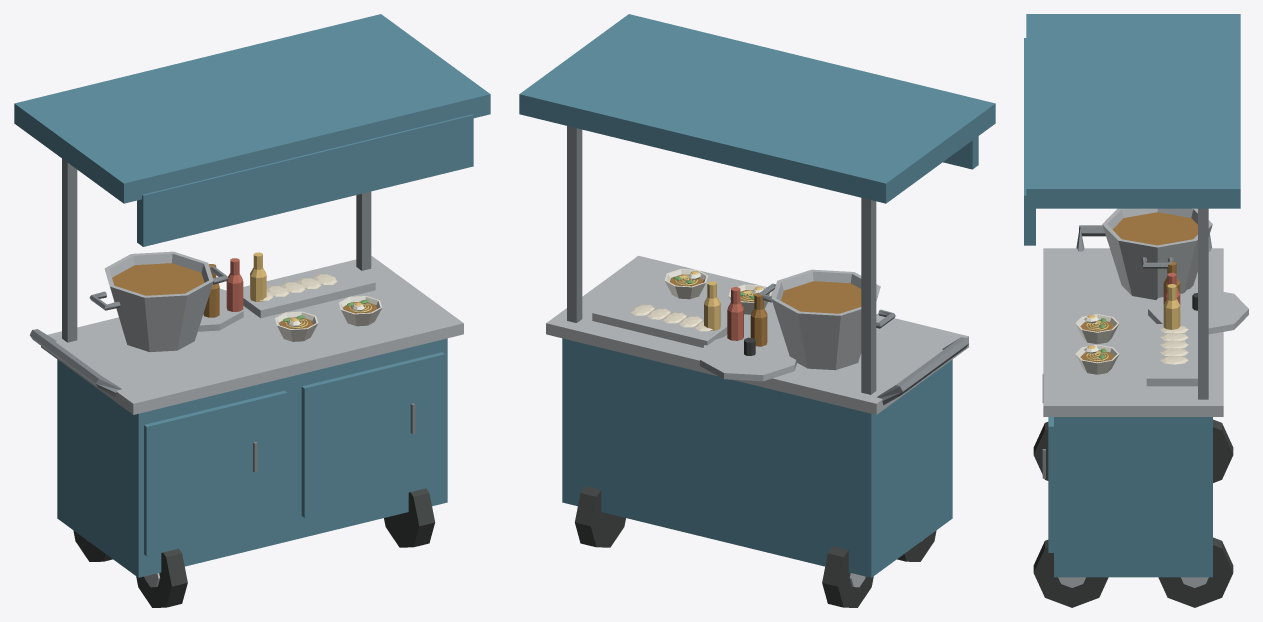
File: MiQuangCounter.glb
3 renders of one model, left to right at view 1: azimuth 30°, elevation 25°; view 2: azimuth 150°, elevation 25°; view 3: azimuth 270°, elevation 25°, orthographic. The views are drawn at different scales.
Parts seen in each view (by area): view 1: ST_MiQuangCounter_ST_blue.001, ST_MiQuangCounter_ST_steel.001, ST_MiQuangCounter_PBK_Indochine_metal.001, ST_MiQuangCounter_ST_black.001, ST_MiQuangCounter_ST_broth.001, ST_MiQuangCounter_ST_white.001, ST_MiQuangCounter_ST_cream.001, ST_Condiment.001, ST_MiQuangCounter_ST_yellow.001; view 2: ST_MiQuangCounter_ST_blue.001, ST_MiQuangCounter_ST_steel.001, ST_MiQuangCounter_PBK_Indochine_metal.001, ST_MiQuangCounter_ST_black.001, ST_MiQuangCounter_ST_broth.001, ST_MiQuangCounter_ST_white.001, ST_MiQuangCounter_ST_cream.001, ST_Condiment.001, ST_MiQuangCounter_ST_yellow.001; view 3: ST_MiQuangCounter_ST_blue.001, ST_MiQuangCounter_ST_steel.001, ST_MiQuangCounter_ST_black.001, ST_MiQuangCounter_PBK_Indochine_metal.001, ST_MiQuangCounter_ST_broth.001, ST_MiQuangCounter_ST_white.001, ST_MiQuangCounter_ST_cream.001, ST_MiQuangCounter_ST_yellow.001.
Part boxes in pixels (bbox=[...]): ST_MiQuangCounter_ST_blue.001: bbox=[14, 14, 490, 577]; ST_MiQuangCounter_ST_steel.001: bbox=[41, 251, 463, 587]; ST_MiQuangCounter_PBK_Indochine_metal.001: bbox=[30, 158, 415, 472]; ST_MiQuangCounter_ST_black.001: bbox=[73, 488, 435, 607]; ST_MiQuangCounter_ST_broth.001: bbox=[112, 263, 376, 329]; ST_MiQuangCounter_ST_white.001: bbox=[275, 296, 382, 341]; ST_MiQuangCounter_ST_cream.001: bbox=[249, 274, 337, 300]; ST_Condiment.001: bbox=[226, 258, 243, 311]; ST_MiQuangCounter_ST_yellow.001: bbox=[250, 252, 361, 321]; ST_MiQuangCounter_ST_blue.001: bbox=[519, 14, 995, 577]; ST_MiQuangCounter_ST_steel.001: bbox=[546, 255, 968, 587]; ST_MiQuangCounter_PBK_Indochine_metal.001: bbox=[567, 126, 968, 405]; ST_MiQuangCounter_ST_black.001: bbox=[574, 337, 936, 607]; ST_MiQuangCounter_ST_broth.001: bbox=[670, 274, 861, 346]; ST_MiQuangCounter_ST_white.001: bbox=[664, 269, 771, 314]; ST_MiQuangCounter_ST_cream.001: bbox=[631, 304, 712, 331]; ST_Condiment.001: bbox=[727, 287, 743, 340]; ST_MiQuangCounter_ST_yellow.001: bbox=[691, 271, 762, 330]; ST_MiQuangCounter_ST_blue.001: bbox=[1024, 14, 1240, 577]; ST_MiQuangCounter_ST_steel.001: bbox=[1043, 208, 1248, 587]; ST_MiQuangCounter_ST_black.001: bbox=[1033, 293, 1233, 607]; ST_MiQuangCounter_PBK_Indochine_metal.001: bbox=[1042, 208, 1211, 478]; ST_MiQuangCounter_ST_broth.001: bbox=[1080, 212, 1197, 362]; ST_MiQuangCounter_ST_white.001: bbox=[1075, 314, 1119, 374]; ST_MiQuangCounter_ST_cream.001: bbox=[1160, 326, 1188, 364]; ST_MiQuangCounter_ST_yellow.001: bbox=[1087, 284, 1180, 348].
Size of the model in its own units: 1.72 by 2.04 by 0.935.
